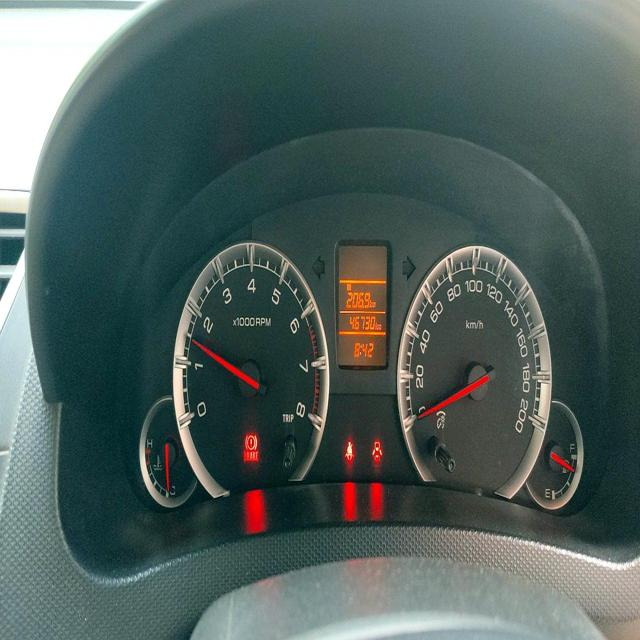odometer: (347, 312, 379, 334)
